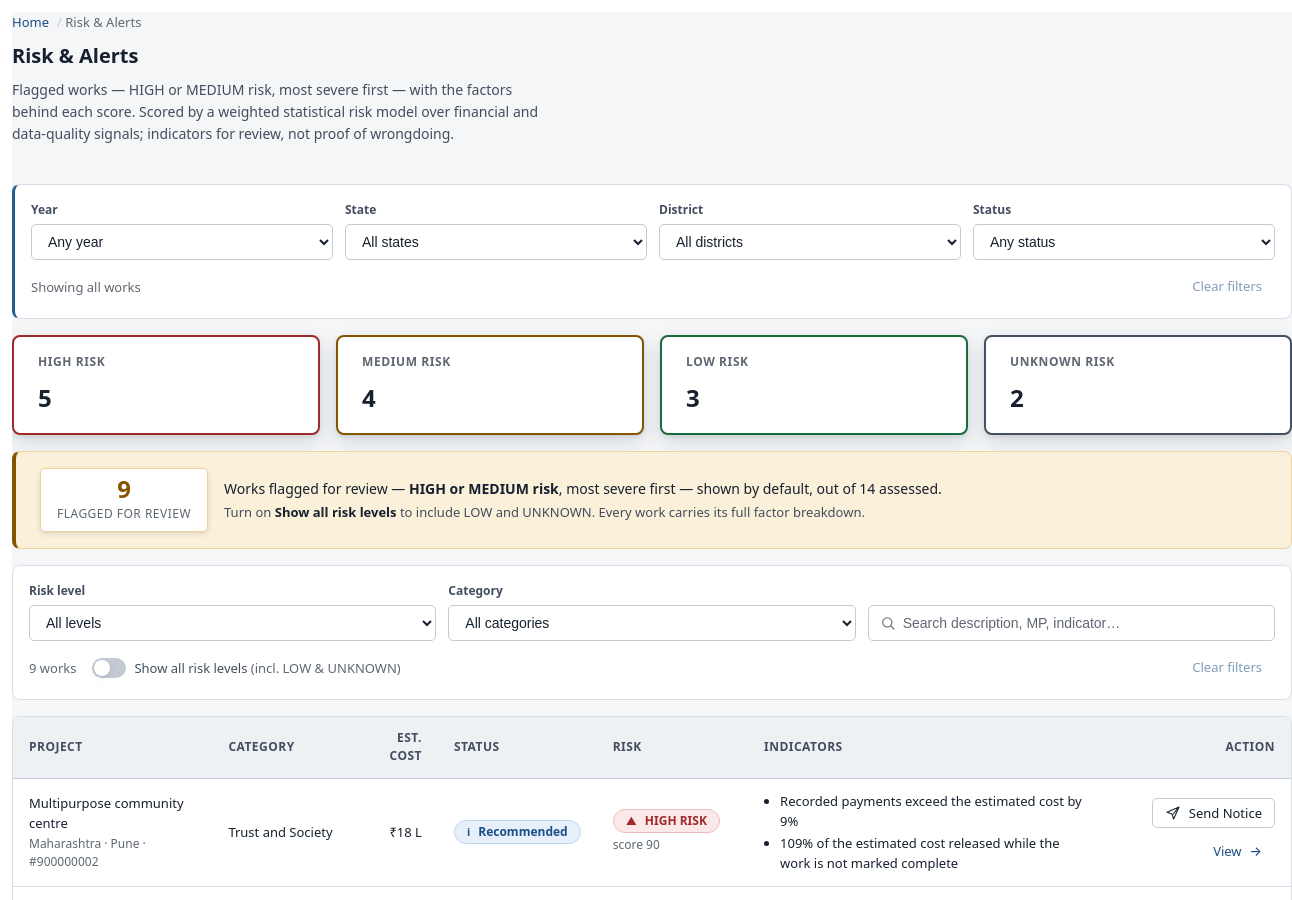
Scenario: RiskAlerts › shows an error toast, without disabling the button, when sending a notice fails
Step 1. Click the button "Send Notice" in the row of "Multipurpose community centre" → [1213, 813], box [1152, 798, 1275, 828]
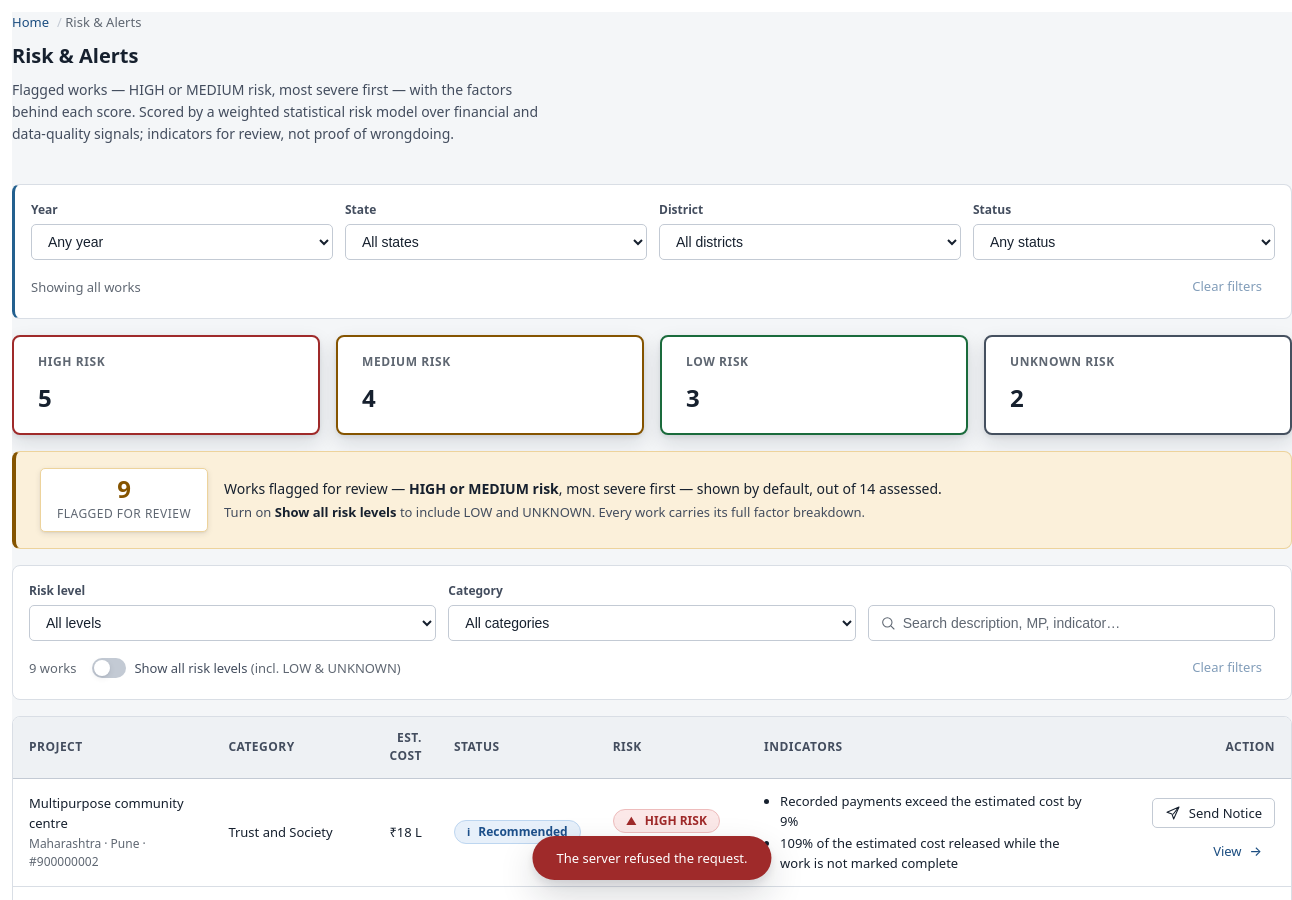
Result: the text "The server refused the request." is shown at [532, 836, 772, 880]
